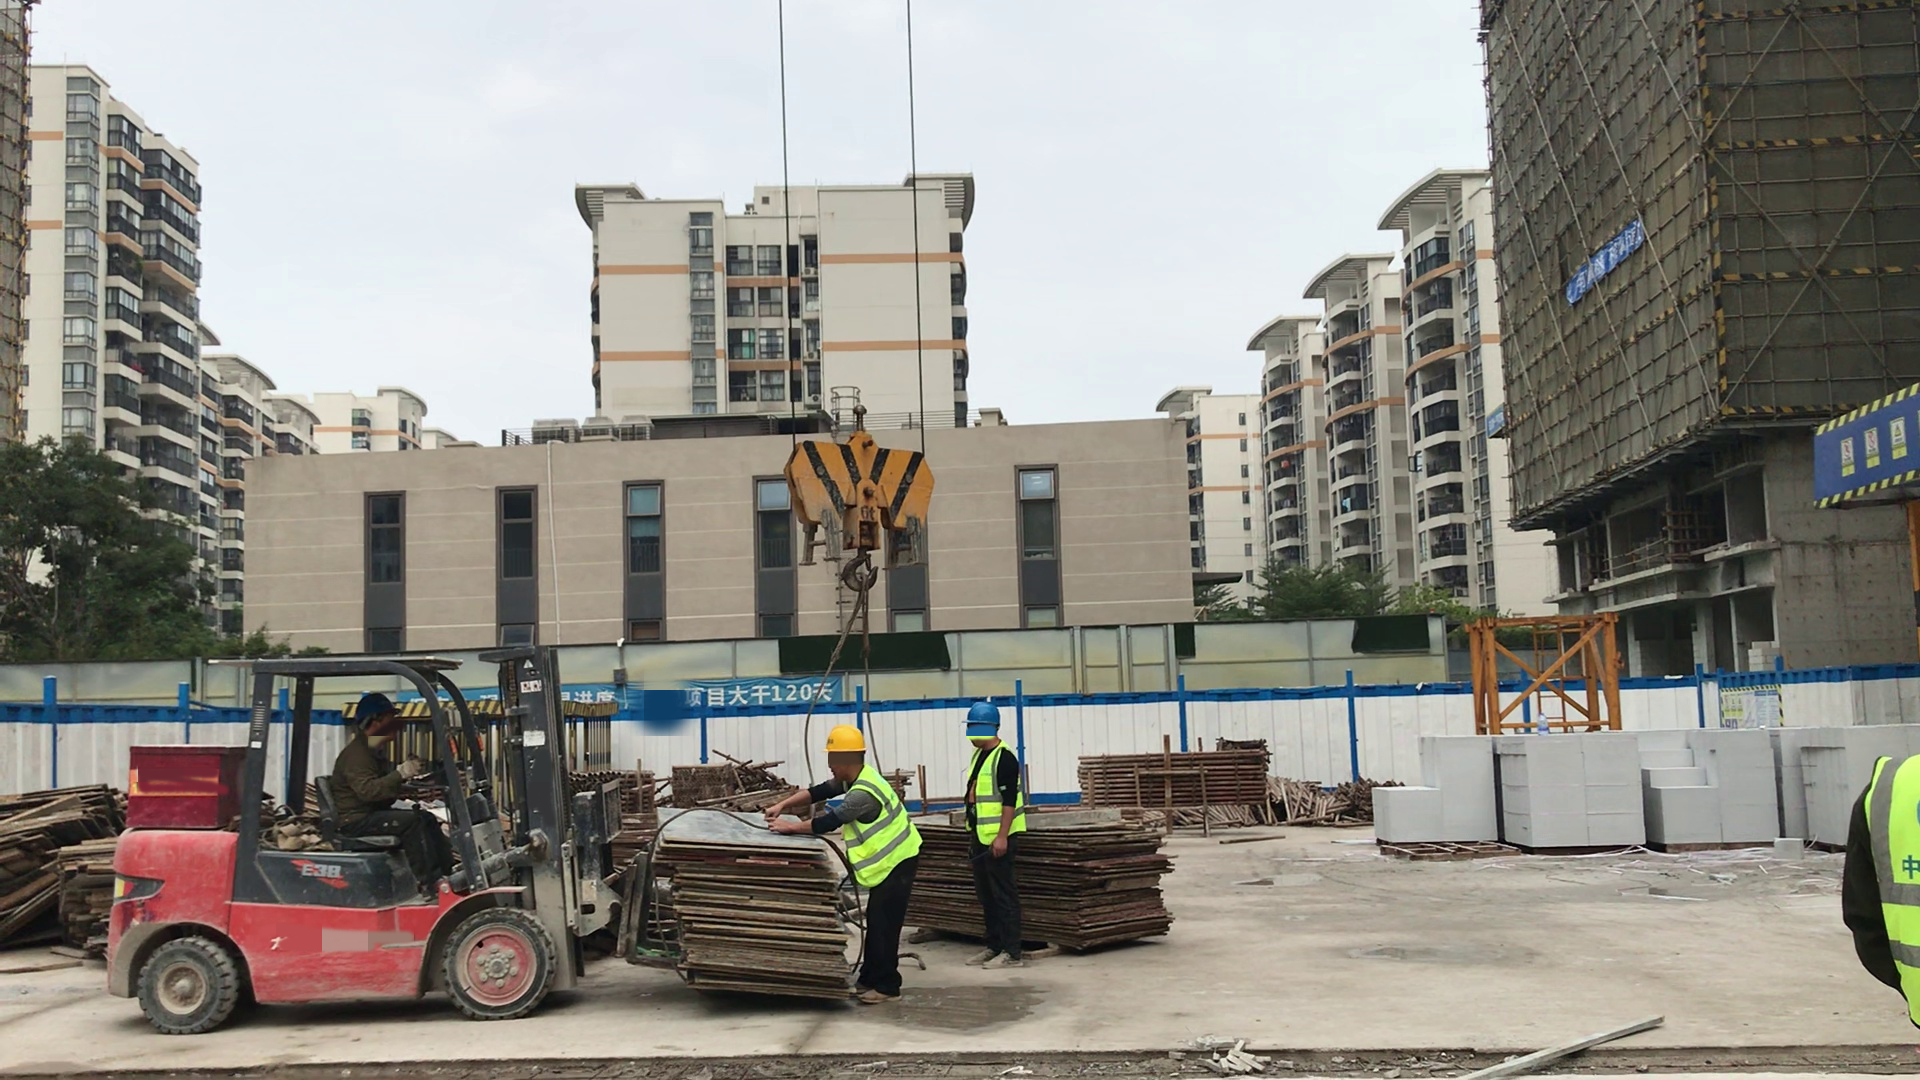board: (655, 810, 848, 1000), (1011, 826, 1170, 946)
brick: (1378, 738, 1898, 838)
helmet: (823, 723, 867, 755), (354, 695, 402, 716), (963, 701, 1001, 726)
hook: (783, 406, 935, 592)
person: (776, 723, 921, 1001), (335, 695, 459, 897), (958, 702, 1026, 970)
scaffold: (1084, 749, 1268, 809), (580, 769, 657, 816)
slogan: (562, 684, 844, 711), (1574, 223, 1642, 303), (1840, 420, 1908, 477)
vest: (1873, 757, 1920, 1060), (843, 780, 920, 879), (971, 747, 1025, 845)
